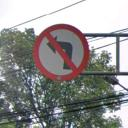NoVirarEsquerda: (31, 22, 92, 84)
